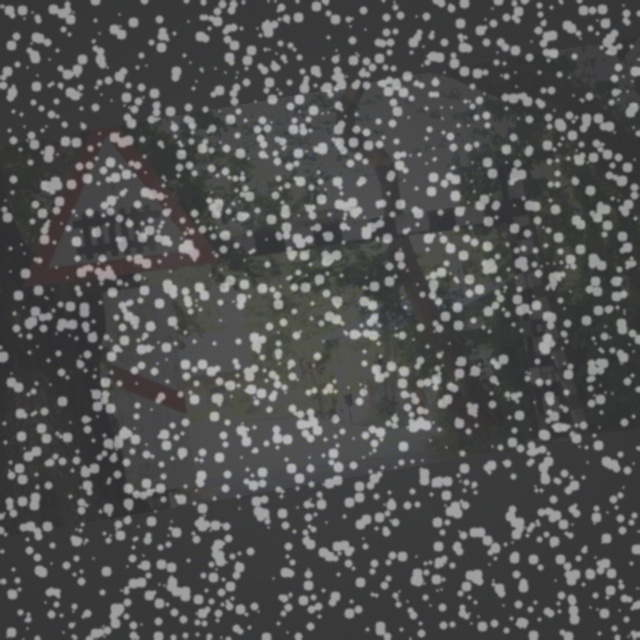Guarded_Level_Crossing: (14, 120, 219, 295)
